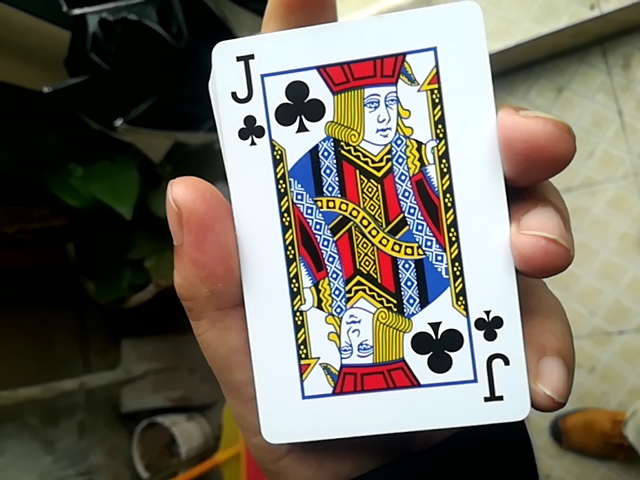mh j: (203, 13, 534, 427)
